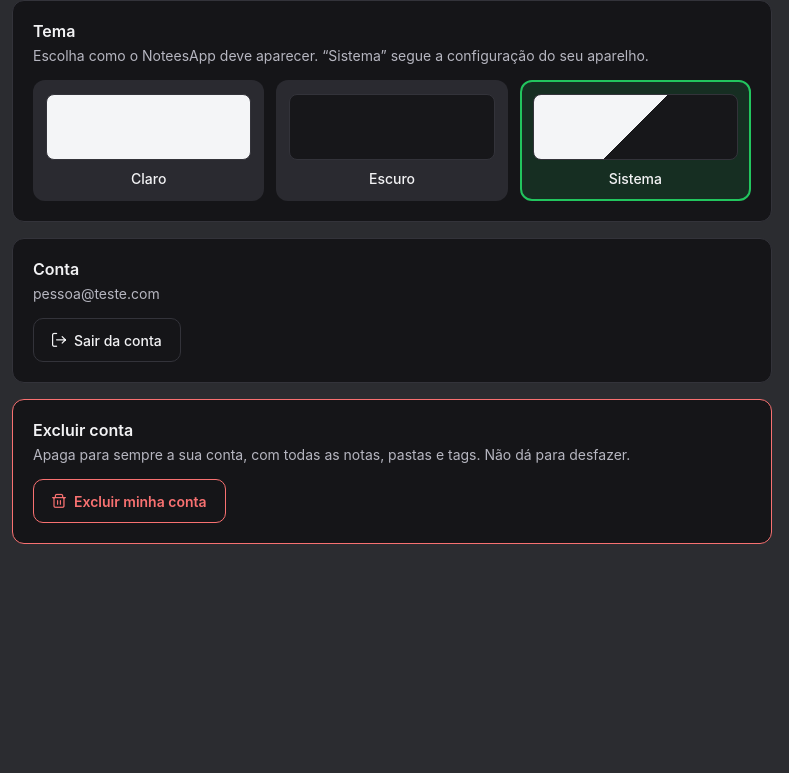
Test: SettingsView: excluir conta › a wrong password shows the error in the dialog and keeps the account and the session
Click the button with class "btn-delete-account": [129, 501] box [33,479,226,523]
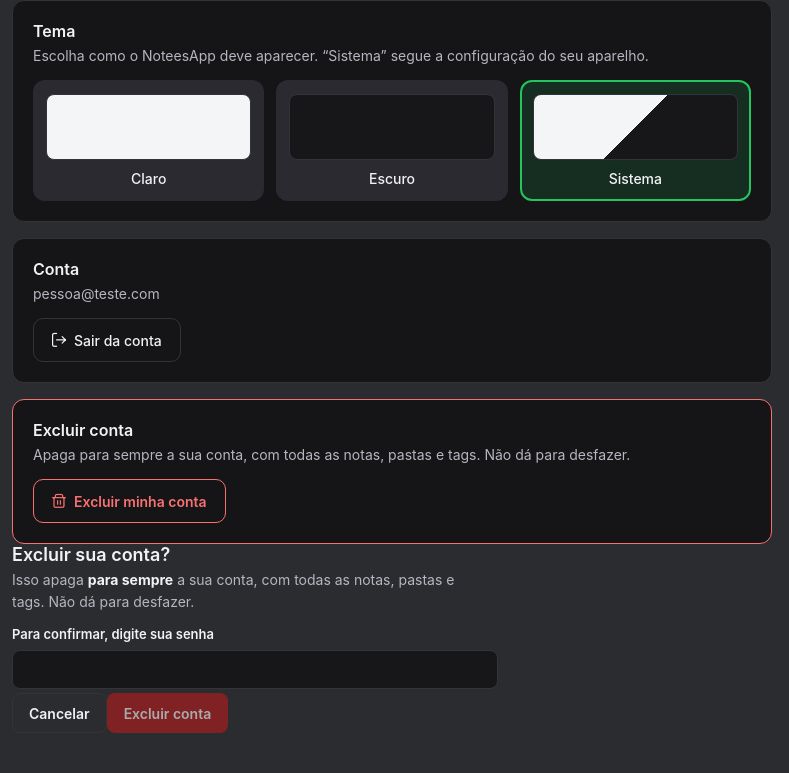
In the password field with id "delete-account-password": [255, 670] box [12,650,498,689], type "errada-123456"
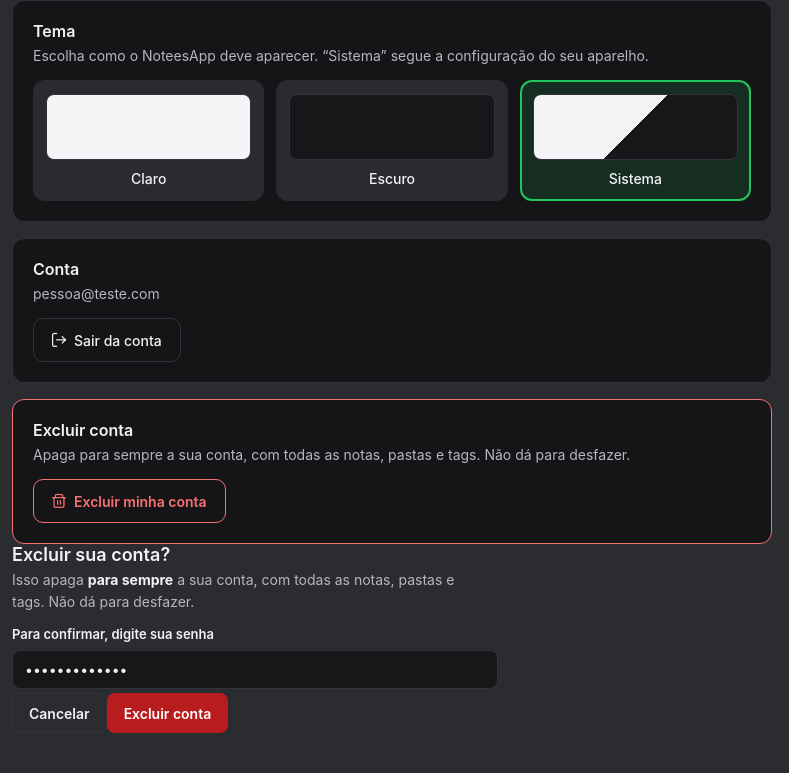
Submit the form, box [12,565,472,693]
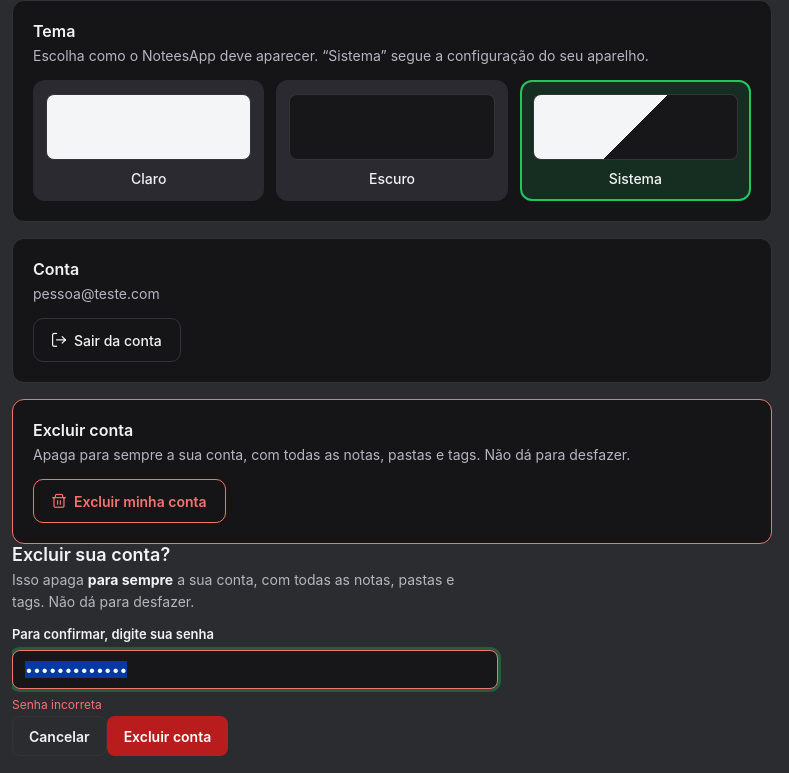
Now the element with class "dialog-stub" is shown, box [12,544,472,756]
Now the button "Excluir conta" is enabled, box [107,716,228,756]
Now the message "Senha incorreta" is shown, box [12,697,102,712]
